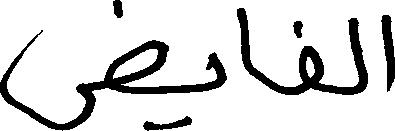X: (0, 0, 165, 130), (298, 16, 323, 99), (347, 13, 367, 99), (379, 10, 394, 96), (236, 3, 249, 78), (206, 47, 225, 95)
